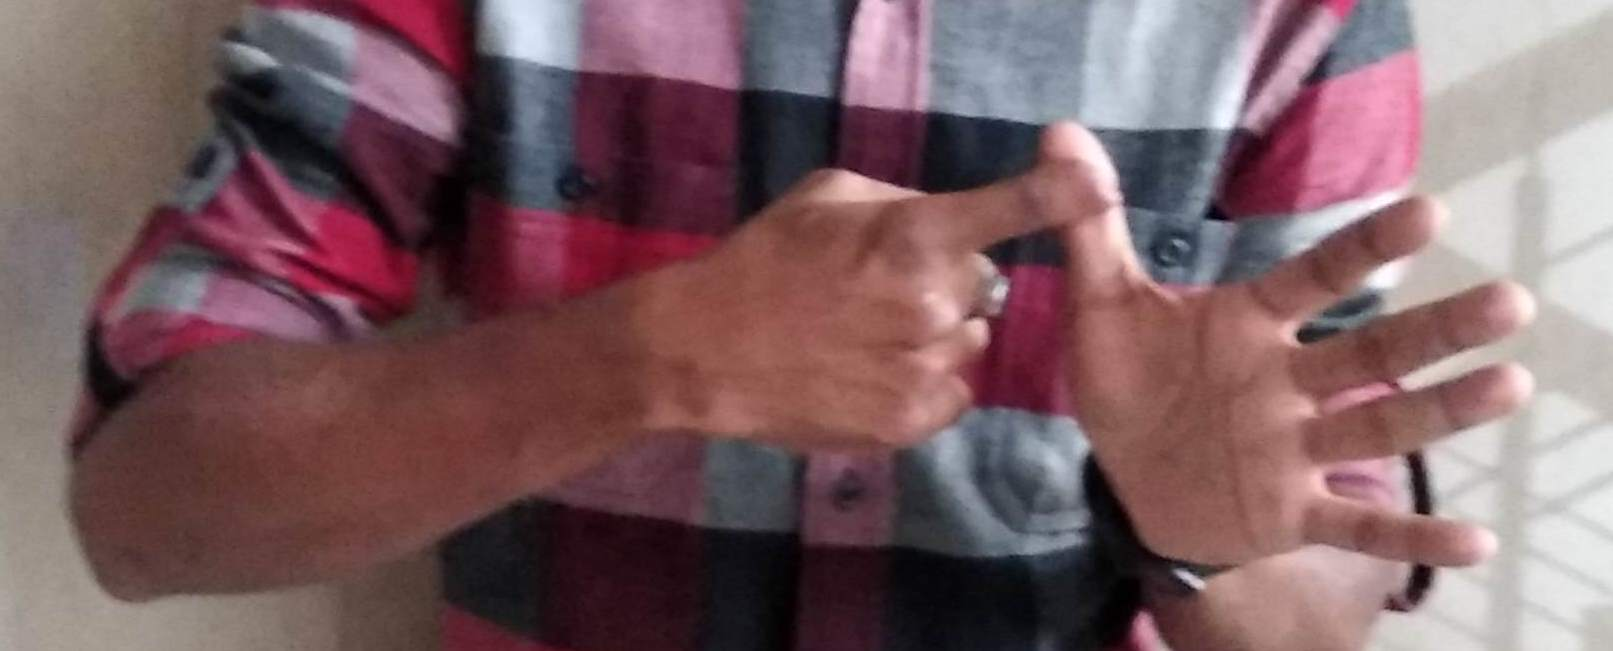a: (712, 164, 1497, 578)
